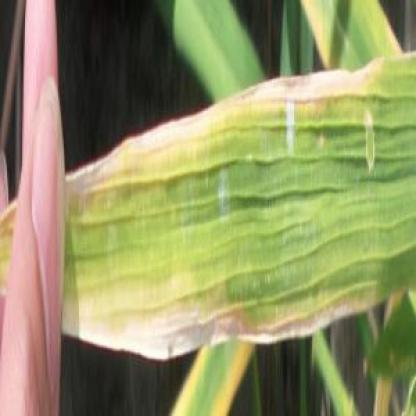Blight: (69, 46, 375, 208), (66, 290, 387, 367)
